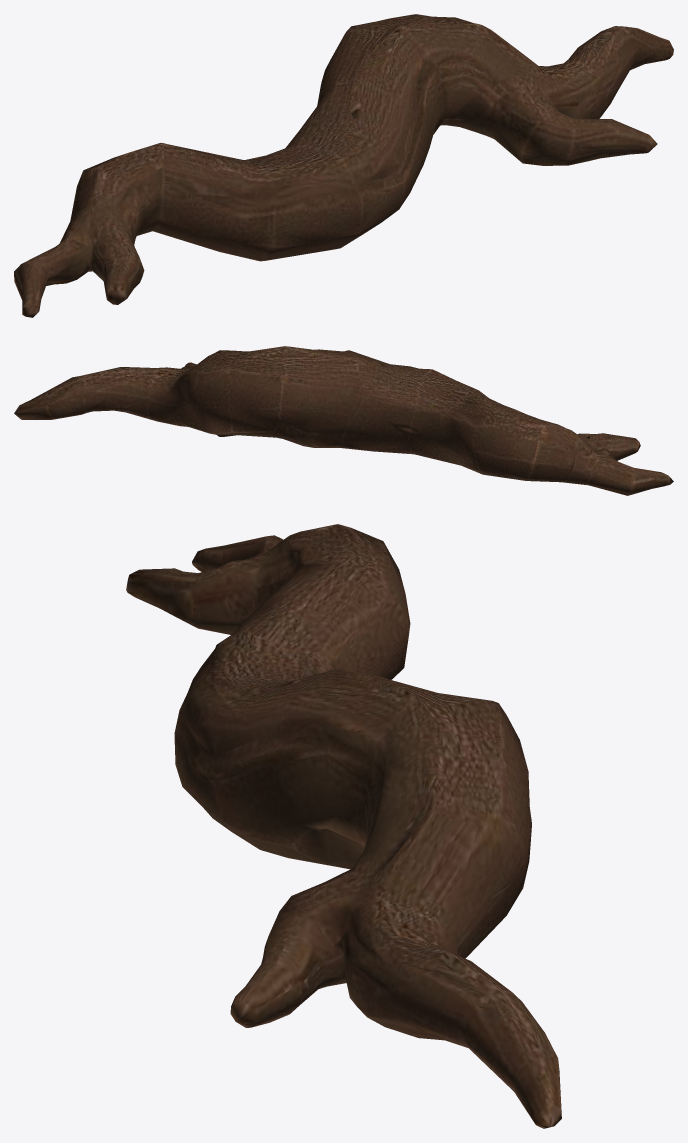
File: root-border.glb
The picture shows the model from 3 angles, top to bottom: view 1: azimuth 30°, elevation 25°; view 2: azimuth 150°, elevation 25°; view 3: azimuth 270°, elevation 25°; orthographic projection. The views are drawn at different scales.
Parts seen in each view (by area): view 1: 07_root_border_LOD1_P2_07_root_border; view 2: 07_root_border_LOD1_P2_07_root_border; view 3: 07_root_border_LOD1_P2_07_root_border.
Boxes of the visible parts, x1=… form: 07_root_border_LOD1_P2_07_root_border: x1=14, y1=14, x2=673, y2=317; 07_root_border_LOD1_P2_07_root_border: x1=14, y1=346, x2=673, y2=495; 07_root_border_LOD1_P2_07_root_border: x1=126, y1=524, x2=561, y2=1128.
Size of the model in its own units: 0.9997 by 0.1875 by 0.3306.
1 material, 1 textured.
